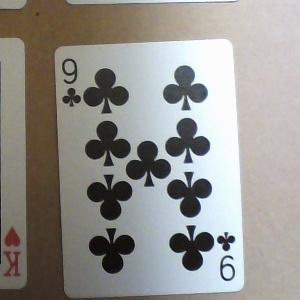card: (53, 39, 247, 297)
